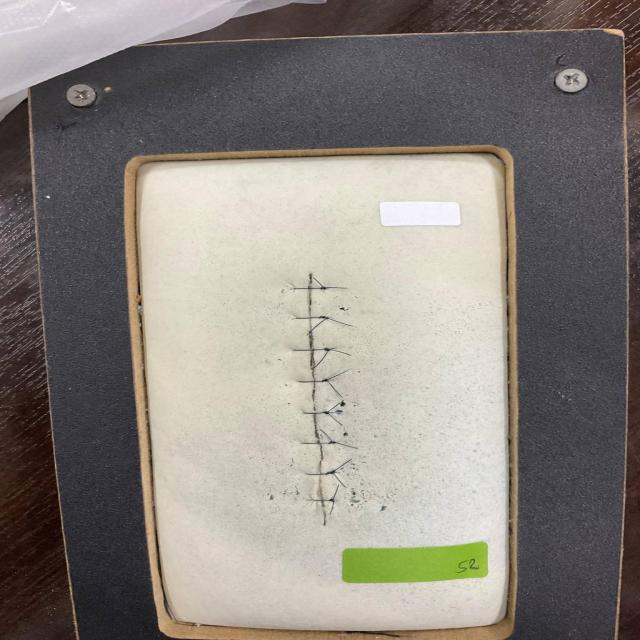knot: (323, 468, 339, 477), (322, 346, 337, 353), (317, 314, 331, 321), (319, 377, 331, 384), (326, 440, 339, 446), (321, 409, 332, 416), (318, 285, 330, 291), (327, 497, 337, 504)
leftover: (306, 318, 328, 336), (312, 349, 330, 369), (326, 379, 343, 398), (333, 459, 352, 472), (326, 318, 353, 327), (332, 472, 346, 488), (327, 412, 343, 426), (326, 370, 347, 380), (319, 429, 333, 443), (334, 442, 358, 449), (328, 349, 351, 356), (326, 402, 340, 413), (312, 277, 324, 288), (332, 484, 339, 501), (328, 501, 335, 515), (324, 287, 348, 289)
stitch: (298, 379, 328, 383), (296, 316, 331, 319), (294, 348, 328, 351), (301, 442, 337, 444), (308, 472, 332, 475), (293, 288, 327, 290), (302, 412, 333, 414), (314, 499, 334, 501)
wound: (308, 273, 326, 525)
